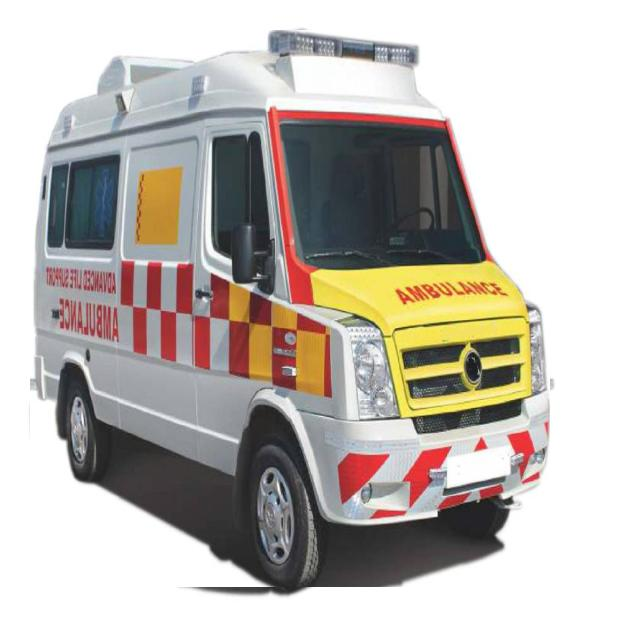emergency: (30, 31, 550, 587)
